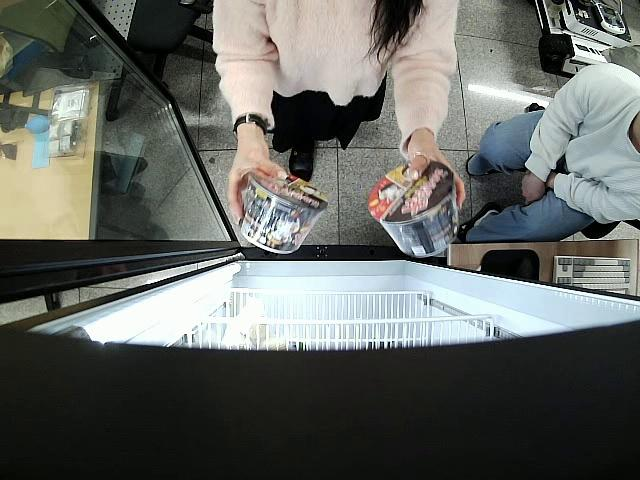00_hand: (229, 144, 286, 225), (401, 142, 467, 210)
07_buldak_L: (369, 157, 463, 258), (240, 164, 325, 255)
